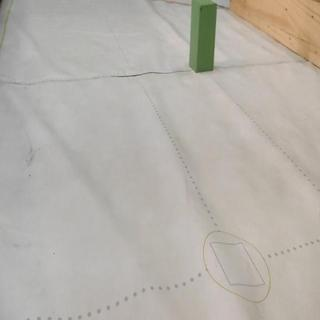greenbox: (189, 1, 217, 73)
